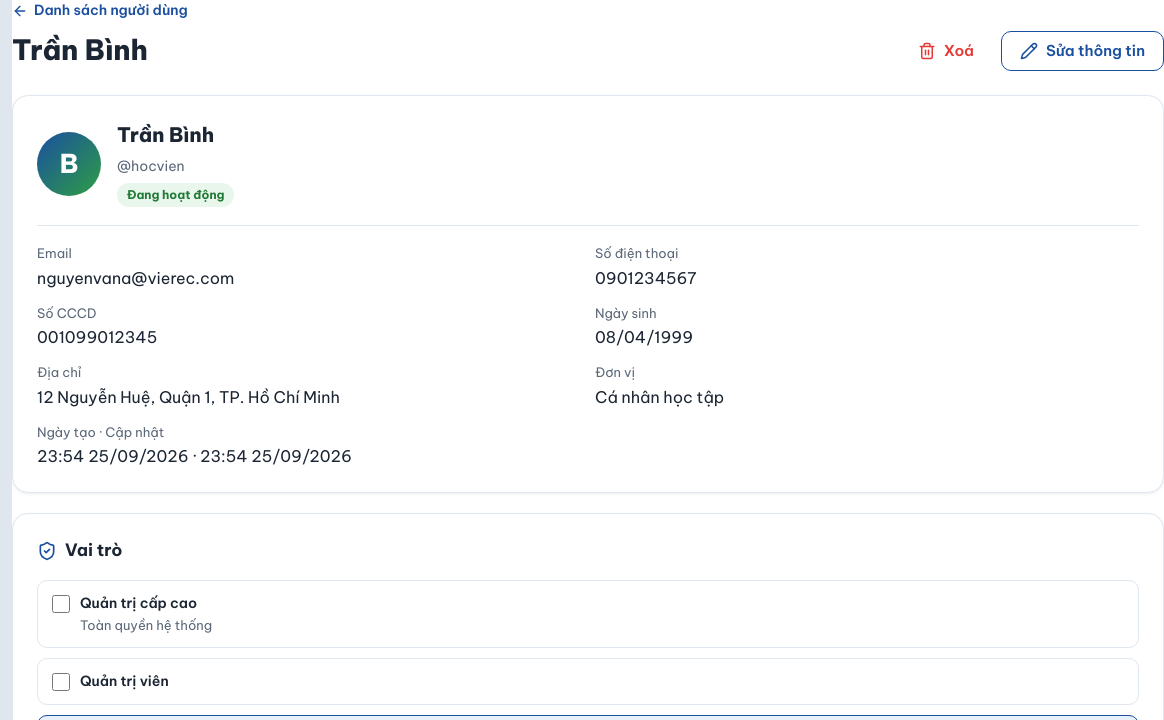
UserDetailPage › explains a role change refused by the server
The width and height of the screenshot is (1164, 720).
Click the checkbox labelled "Quản trị viên" at coordinates (61, 682), box [52,673,70,691]
(page scrolled)
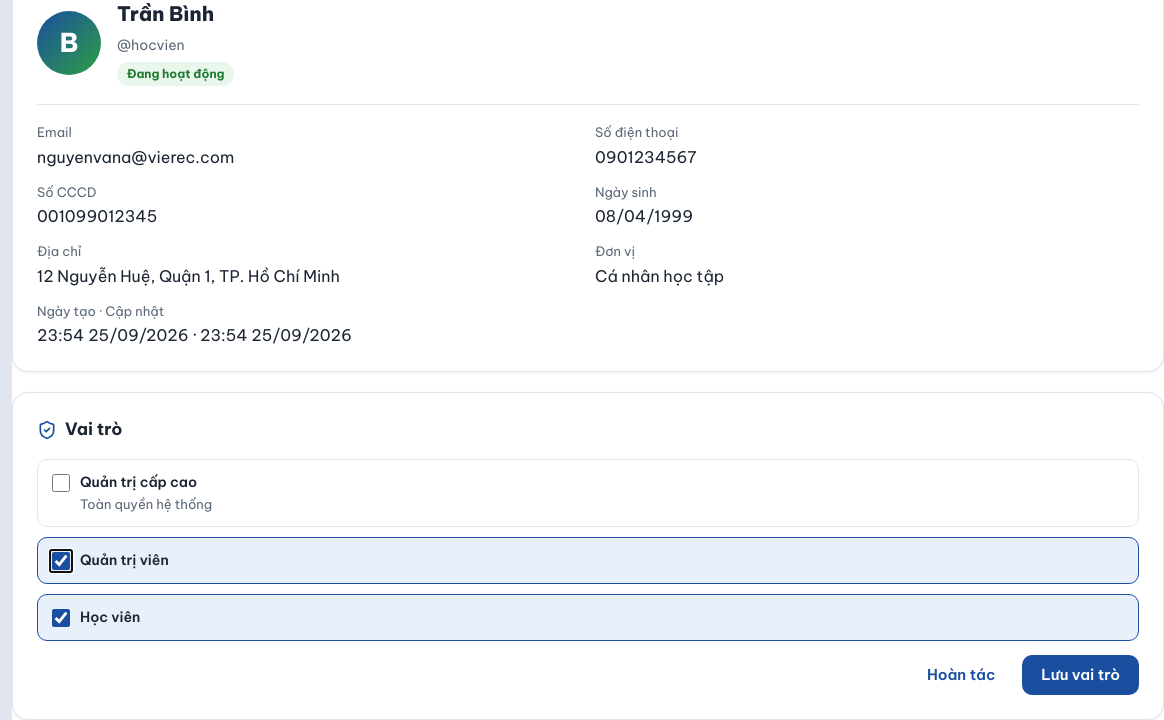
Click the button "Lưu vai trò" at coordinates (1081, 675), box [1022,655,1139,695]
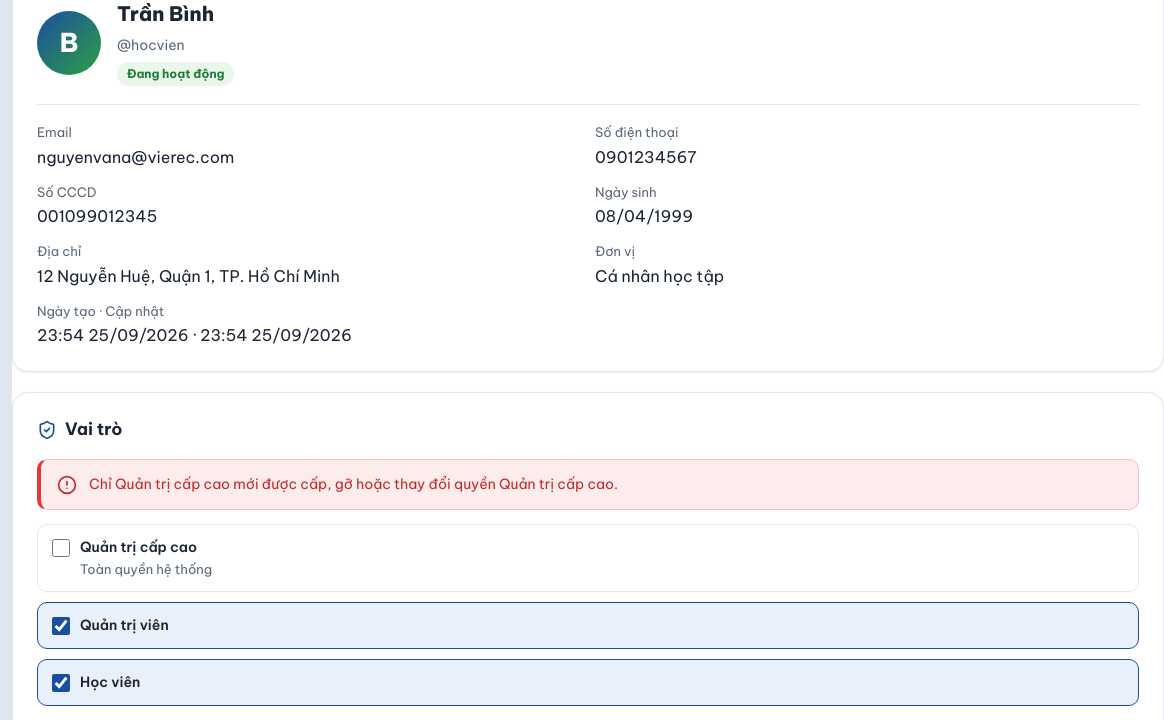
Check: the message reads "Chỉ Quản trị cấp cao mới được cấp, gỡ hoặc thay đổi quyền Quản trị cấp cao.", box [89,474,618,492]
